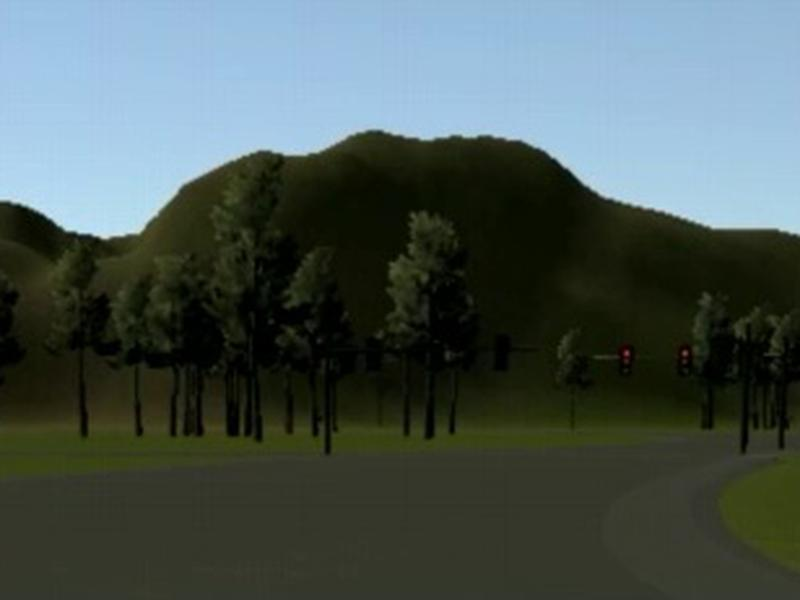Red: (620, 347, 633, 376), (679, 347, 691, 376)
